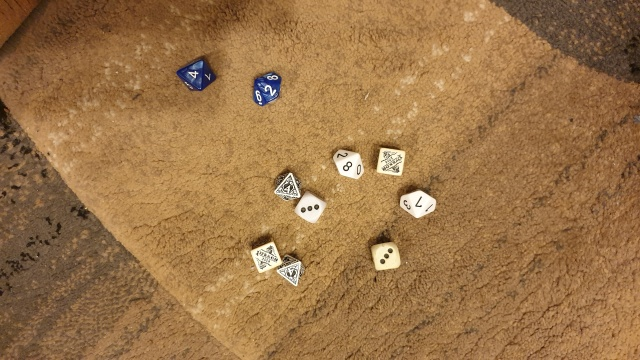d10-2: (246, 68, 287, 108)
d10-4: (176, 58, 219, 93)
d10-7: (396, 187, 445, 221)
d10-8: (331, 144, 365, 182)
d6-3: (365, 241, 404, 272), (292, 190, 327, 224)
d6p-1: (248, 237, 284, 275), (374, 145, 410, 180)
d8p-4: (277, 253, 307, 288), (272, 169, 299, 203)
